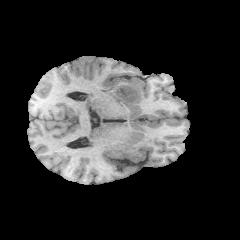glioma: (109, 75, 147, 106)
